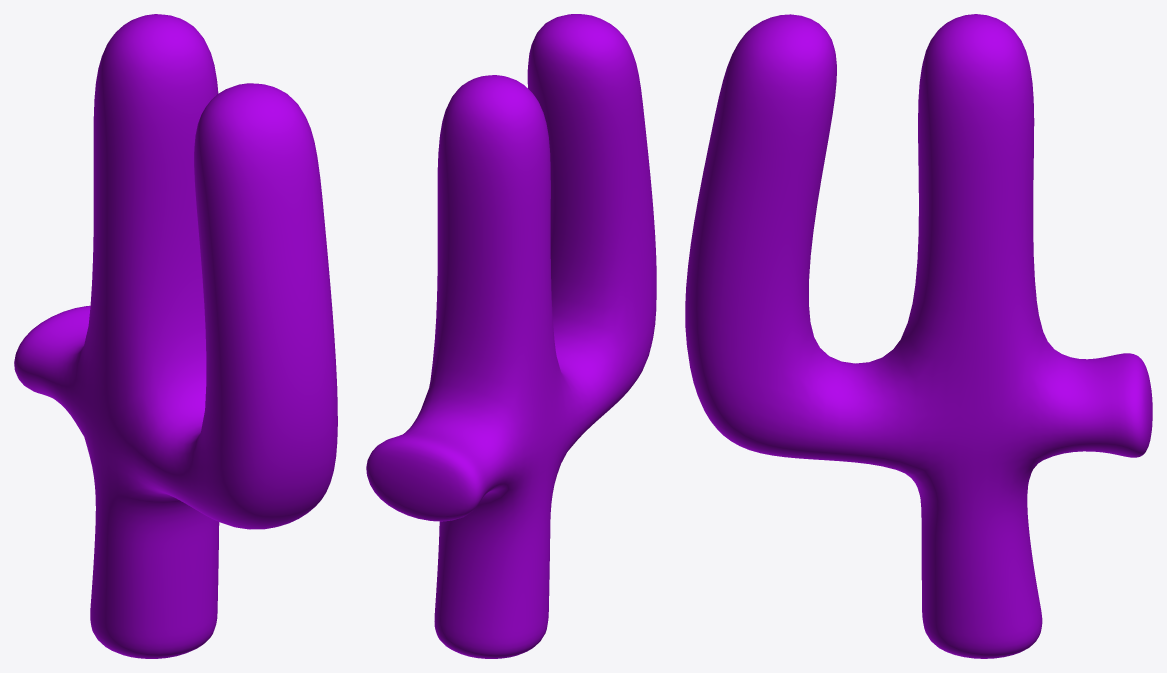
The model's file is FourBalloon.fbx.
3 views of the same model, side by side, from view 1: azimuth 30°, elevation 25°; view 2: azimuth 150°, elevation 25°; view 3: azimuth 270°, elevation 25° (orthographic). The views are drawn at different scales.
Parts seen in each view (by area): view 1: Four; view 2: Four; view 3: Four.
Part boxes in pixels (x1,y1,x2,y2): Four: (14, 14, 337, 658); Four: (366, 14, 656, 658); Four: (685, 14, 1152, 658).
Size of the model in its own units: 15.83 by 75.99 by 51.51.
